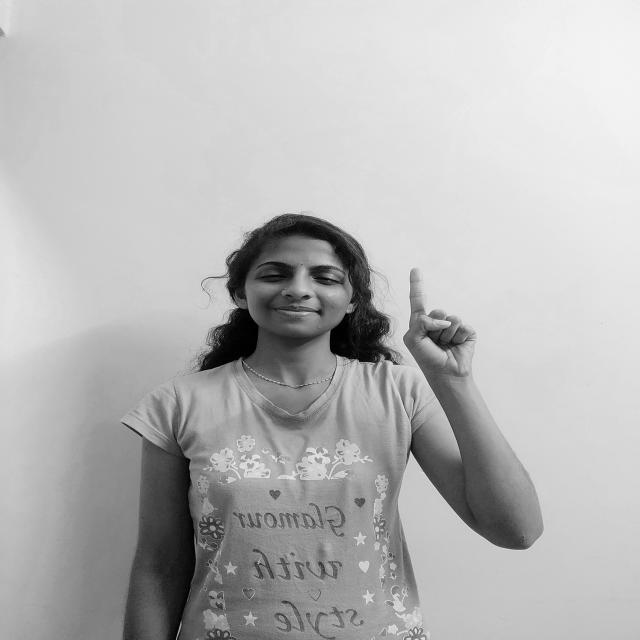Question: (395, 258, 489, 391)
